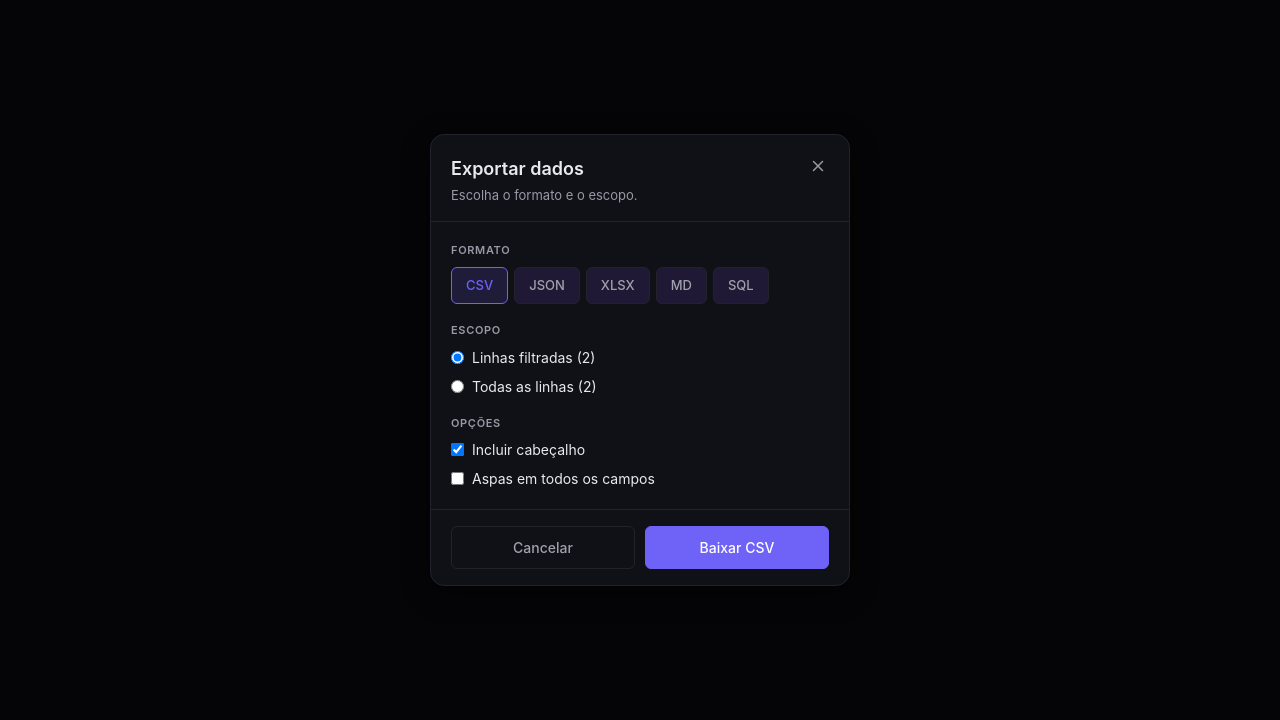
ExportModal › RF-02 a RF-06 / UI-03 — troca de aba atualiza toggles e rótulo do botão › trocar para SQL mantém "Incluir cabeçalho" habilitado e "Aspas em todos os campos" desabilitado
Step 1. Click the tab with class "export-format-tab" showing "SQL" → (741, 286), box [713, 267, 769, 304]
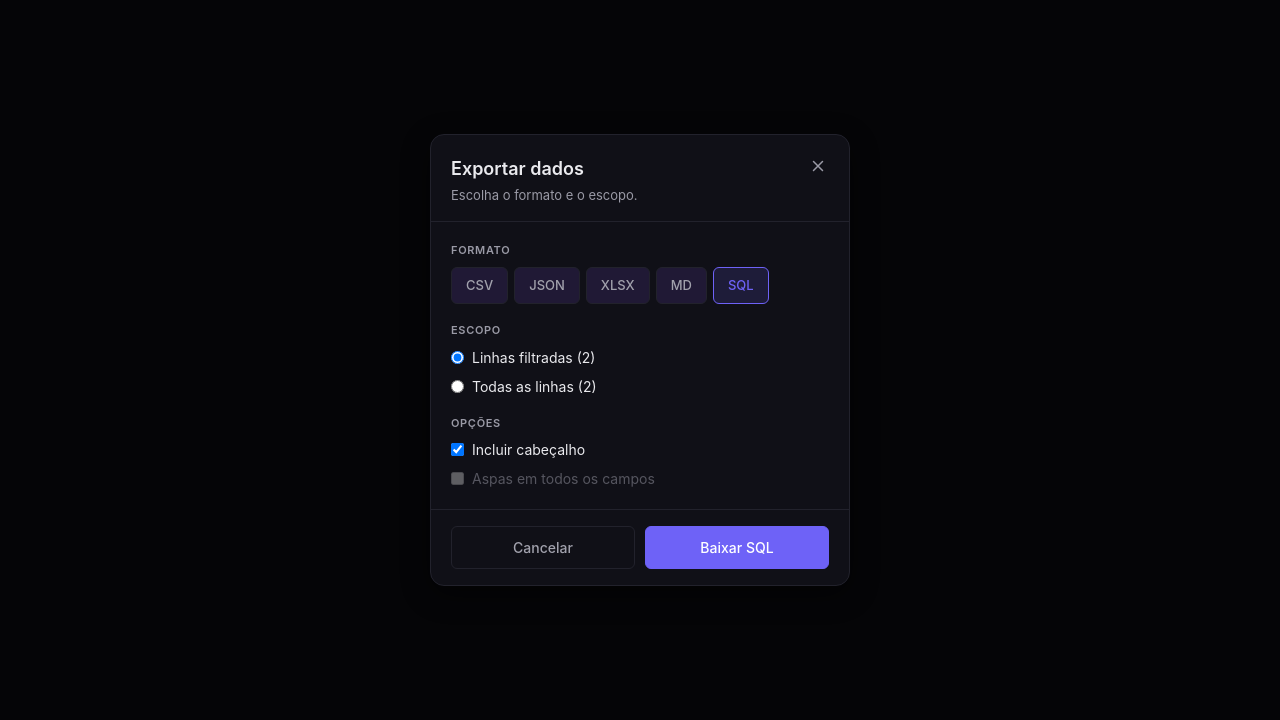
Expected: the checkbox labelled "Incluir cabeçalho" is enabled, [451, 443, 464, 456]
Expected: the checkbox labelled "Aspas em todos os campos" is disabled, [451, 472, 464, 485]
Expected: the button with class "export-overlay__download" reads "Baixar SQL", [645, 526, 829, 569]
